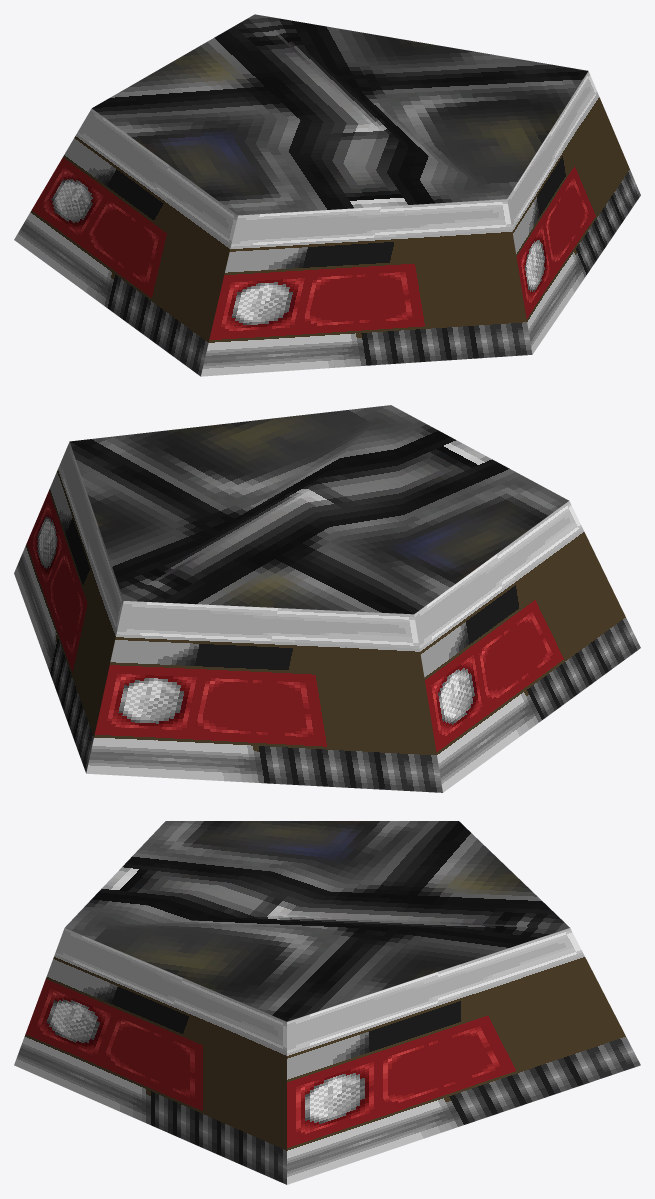
3 renders of one model, top to bottom at view 1: azimuth 30°, elevation 25°; view 2: azimuth 150°, elevation 25°; view 3: azimuth 270°, elevation 25°, orthographic. The views are drawn at different scales.
Parts seen in each view (by area): view 1: prim188-Cylinder107; view 2: prim188-Cylinder107; view 3: prim188-Cylinder107.
Boxes of the visible parts, bbox=[...] form: prim188-Cylinder107: bbox=[14, 14, 640, 376]; prim188-Cylinder107: bbox=[14, 405, 640, 792]; prim188-Cylinder107: bbox=[14, 821, 640, 1184].
Bounding box in the file's own units: 59 × 15 × 62.
2 materials, 2 textured.
